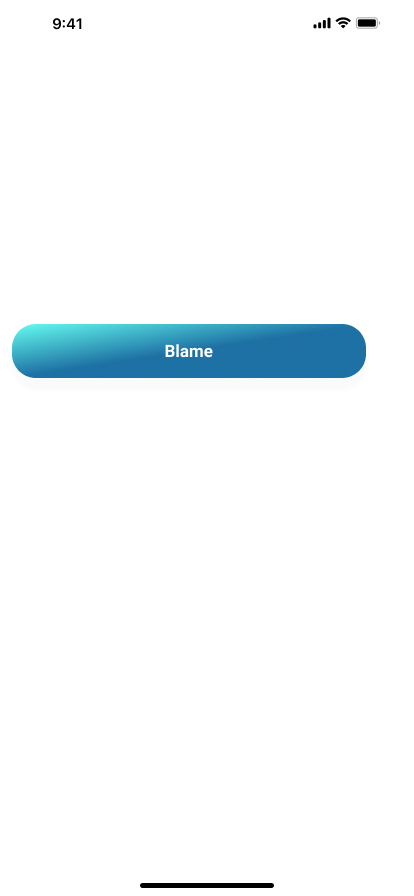Buttons: (8, 324, 374, 394)
Home Indicator: (0, 862, 414, 896)
Status Bar: (0, 0, 414, 44)
